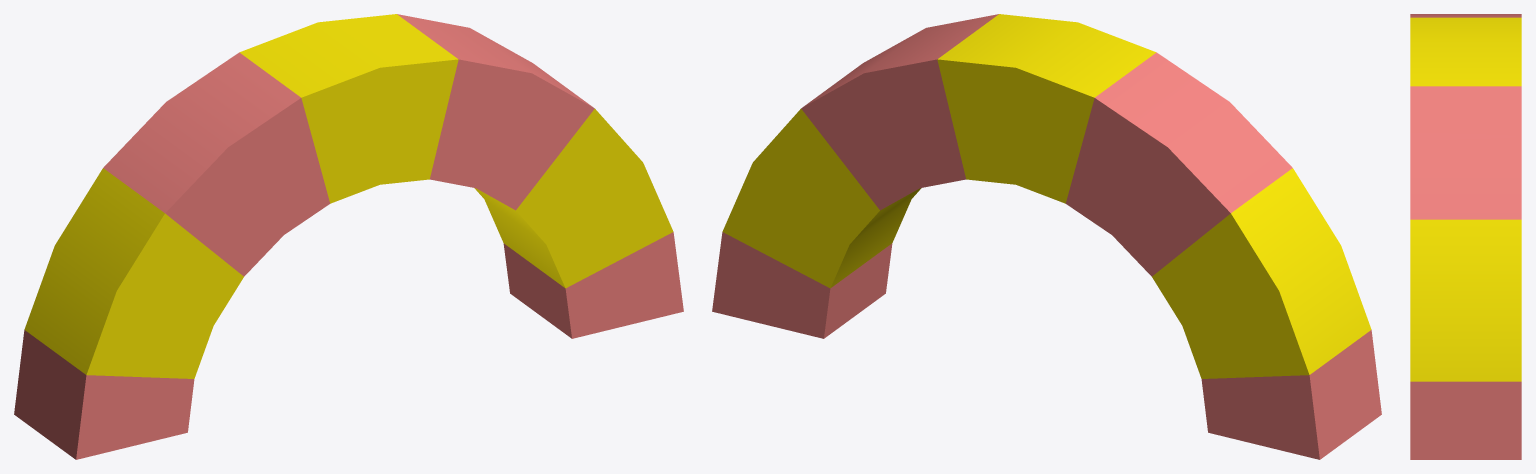
File: overheadRoundColored.glb
3 renders of one model, left to right at view 1: azimuth 30°, elevation 25°; view 2: azimuth 150°, elevation 25°; view 3: azimuth 270°, elevation 25°, orthographic. The views are drawn at different scales.
Parts seen in each view (by area): view 1: overheadRoundColored(Clone); view 2: overheadRoundColored(Clone); view 3: overheadRoundColored(Clone).
Boxes of the visible parts, x1=… form: overheadRoundColored(Clone): x1=14, y1=14, x2=683, y2=459; overheadRoundColored(Clone): x1=712, y1=14, x2=1381, y2=459; overheadRoundColored(Clone): x1=1410, y1=14, x2=1521, y2=459.
Bounding box in the file's own units: 1.87 × 0.9334 × 0.33.
